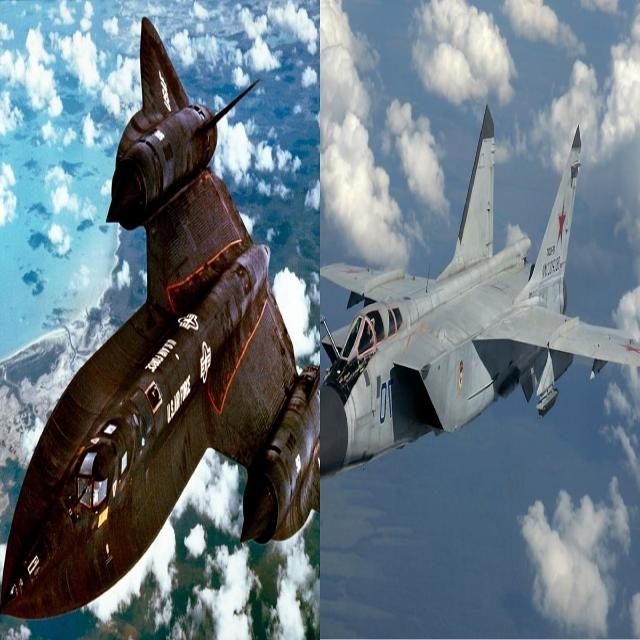MIL_Plane: (1, 17, 320, 621), (320, 104, 640, 482)
